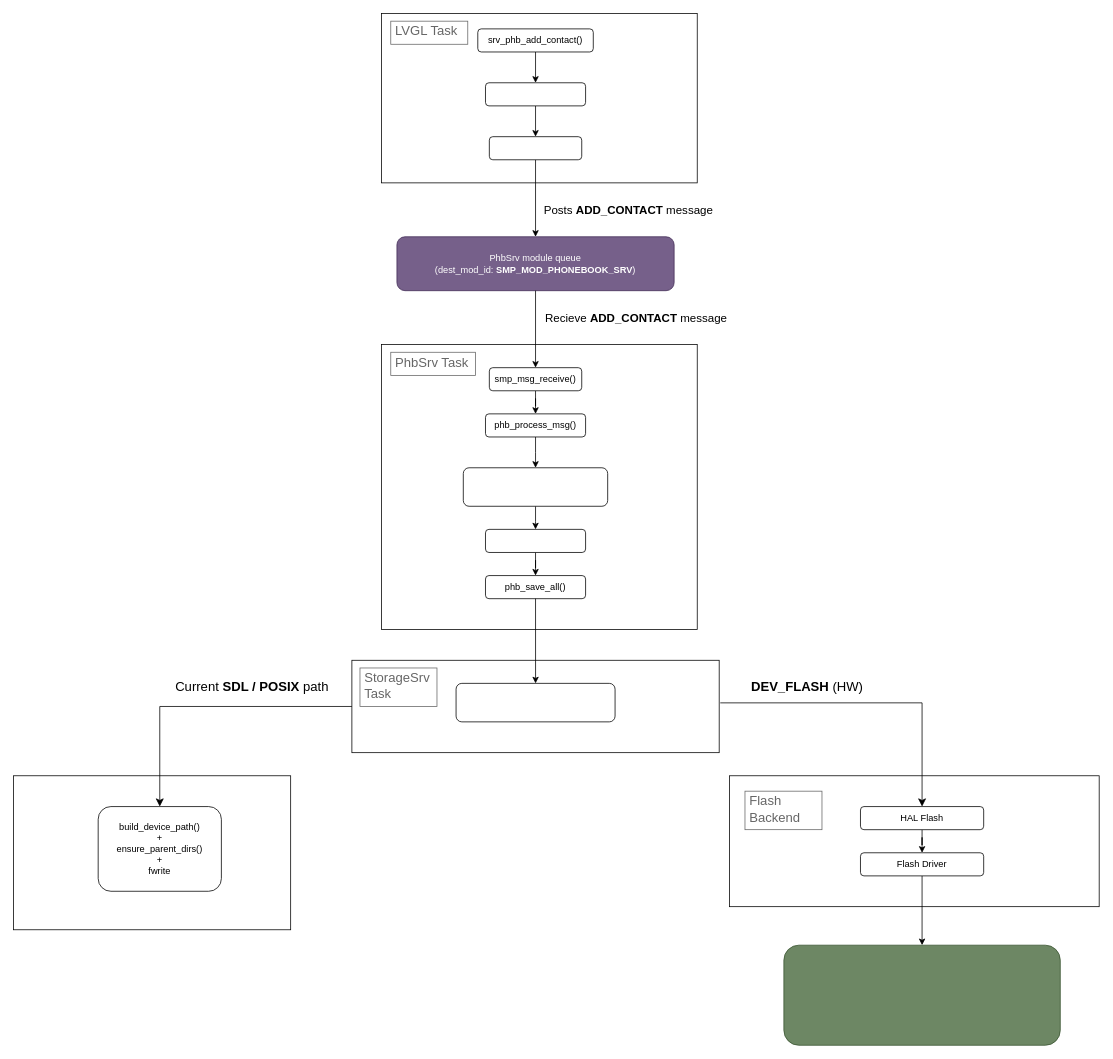
Some shapes in this 1113 by 1059 pixel diagram are drawn without their labels. The shapes that lost their labels are listed below. From the top down, each one's centre as x and y in pixels, then its label:
At pixel 535 94: "phb_post_cmd()".
At pixel 535 148: "smp_msg_send()".
At pixel 535 486: "phb_process_add() (memory write)".
At pixel 535 540: "phb_save_contact()".
At pixel 535 702: "srv_storage_record_write_all() (flash write as record )".
At pixel 921 994: "FLASH".
